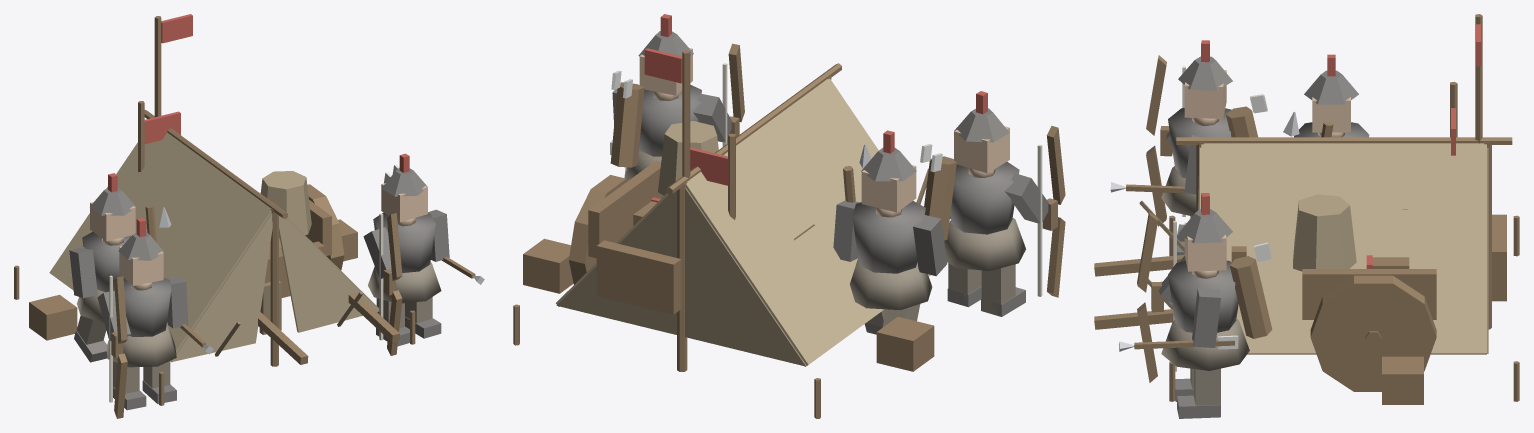
Rendered from troop-supply.glb.
3 views of the same model, side by side, from view 1: azimuth 30°, elevation 25°; view 2: azimuth 150°, elevation 25°; view 3: azimuth 270°, elevation 25° (orthographic). The views are drawn at different scales.
Visible parts, largest first — view 1: supply_tent_canvas_left, supply_tent_front_flap_left, supply_tent_front_flap_right, camp_archer_l_body, supply_sack_1, camp_archer_r_body, supply_camp_crate_0, camp_archer_l_skirt, camp_archer_r_skirt, move_guard_body, supply_tent_pole_front, move_guard_arm_l (+36 smaller); view 2: supply_tent_canvas_left, supply_tent_back, supply_cart_rear_panel, move_guard_body, camp_archer_l_body, supply_cart_rail_R, camp_archer_l_skirt, move_guard_skirt, supply_camp_crate_0, camp_archer_r_quiver, camp_archer_r_body, supply_camp_crate_1 (+27 smaller); view 3: supply_tent_canvas_right, supply_cart_wheel_R, supply_sack_1, camp_archer_r_body, supply_cart_rail_R, camp_archer_r_quiver, supply_tent_ridge_pole, camp_archer_r_skirt, supply_camp_crate_1, camp_archer_l_body, camp_archer_r_arm_r, supply_cart_rear_panel (+25 smaller).
Boxes of the visible parts, <box> form: supply_tent_canvas_left: <box>49,132,271,362</box>; supply_tent_front_flap_left: <box>171,213,272,361</box>; supply_tent_front_flap_right: <box>279,216,379,332</box>; camp_archer_l_body: <box>113,278,171,336</box>; supply_sack_1: <box>260,171,311,238</box>; camp_archer_r_body: <box>373,212,435,272</box>; supply_camp_crate_0: <box>29,294,77,340</box>; camp_archer_l_skirt: <box>106,322,176,367</box>; camp_archer_r_skirt: <box>368,261,441,303</box>; move_guard_body: <box>82,232,130,292</box>; supply_tent_pole_front: <box>270,208,278,366</box>; move_guard_arm_l: <box>69,247,97,298</box>; supply_tent_canvas_left: <box>686,79,947,366</box>; supply_tent_back: <box>556,188,806,366</box>; supply_cart_rear_panel: <box>596,240,681,314</box>; move_guard_body: <box>852,201,925,273</box>; camp_archer_l_body: <box>950,161,1019,234</box>; supply_cart_rail_R: <box>588,160,663,258</box>; camp_archer_l_skirt: <box>944,218,1025,270</box>; move_guard_skirt: <box>850,258,932,310</box>; supply_camp_crate_0: <box>876,317,934,371</box>; camp_archer_r_quiver: <box>610,70,644,167</box>; camp_archer_r_body: <box>639,84,701,156</box>; supply_camp_crate_1: <box>523,238,573,293</box>; supply_tent_canvas_right: <box>1201,143,1486,354</box>; supply_cart_wheel_R: <box>1310,275,1436,391</box>; supply_sack_1: <box>1293,194,1356,271</box>; camp_archer_r_body: <box>1168,260,1238,332</box>; supply_cart_rail_R: <box>1302,269,1436,319</box>; camp_archer_r_quiver: <box>1229,242,1272,338</box>; supply_tent_ridge_pole: <box>1176,137,1512,144</box>; camp_archer_r_skirt: <box>1161,319,1249,370</box>; supply_camp_crate_1: <box>1382,356,1423,404</box>; camp_archer_l_body: <box>1168,108,1231,178</box>; camp_archer_r_arm_r: <box>1192,288,1220,347</box>; supply_cart_rear_panel: <box>1492,214,1506,301</box>.
Size of the model in its own units: 0.5756 by 0.4174 by 0.5066.
